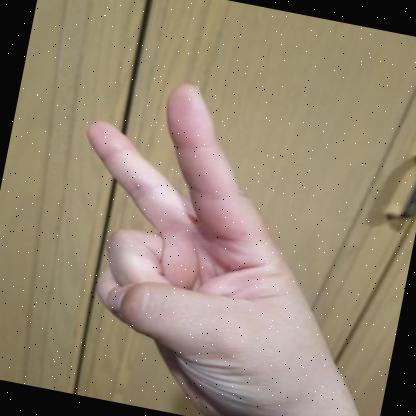V: (87, 83, 359, 416)
